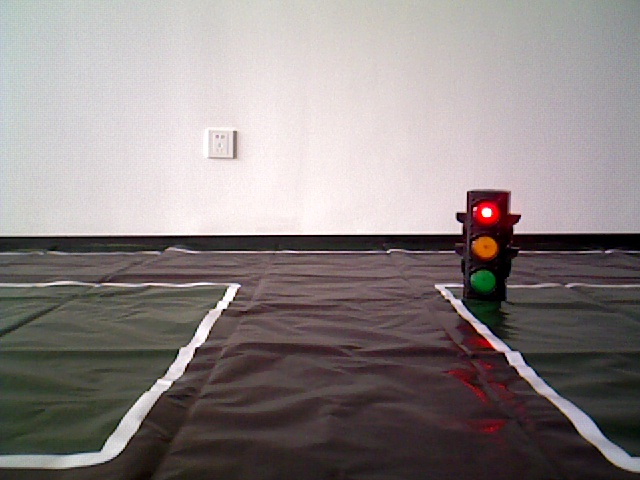red: (465, 193, 505, 303)
